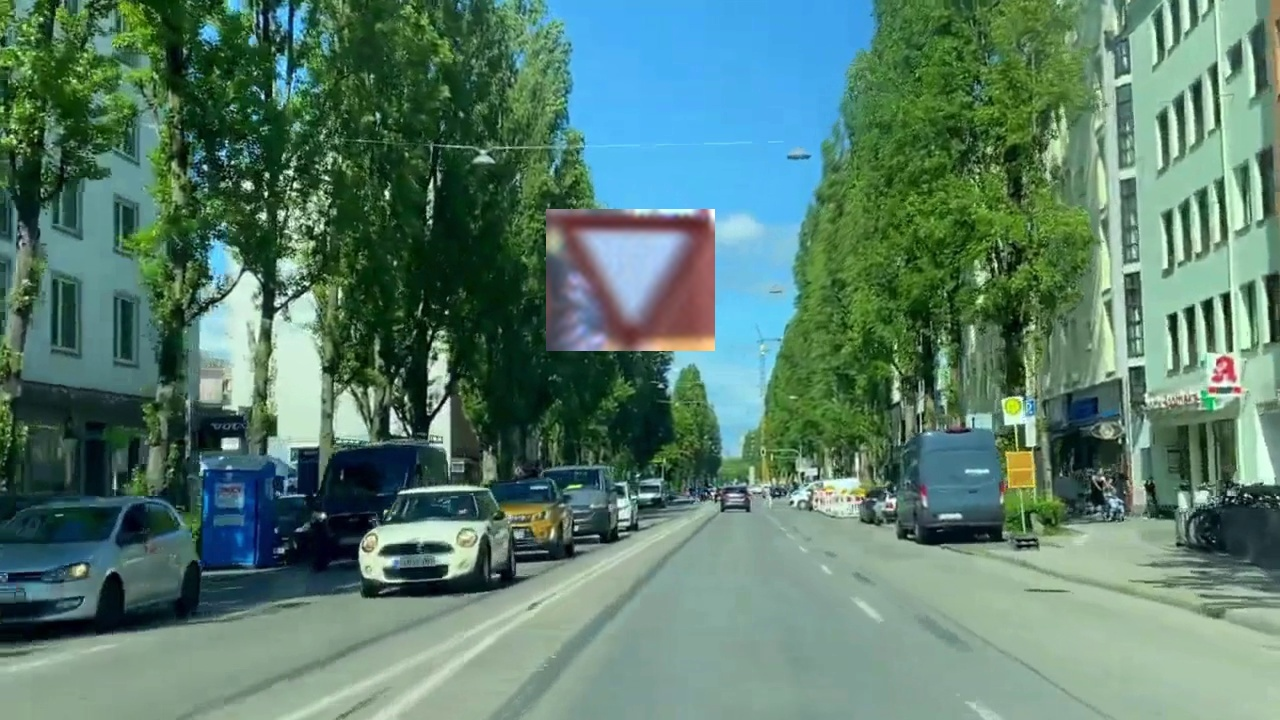Yield: (546, 209, 715, 351)
